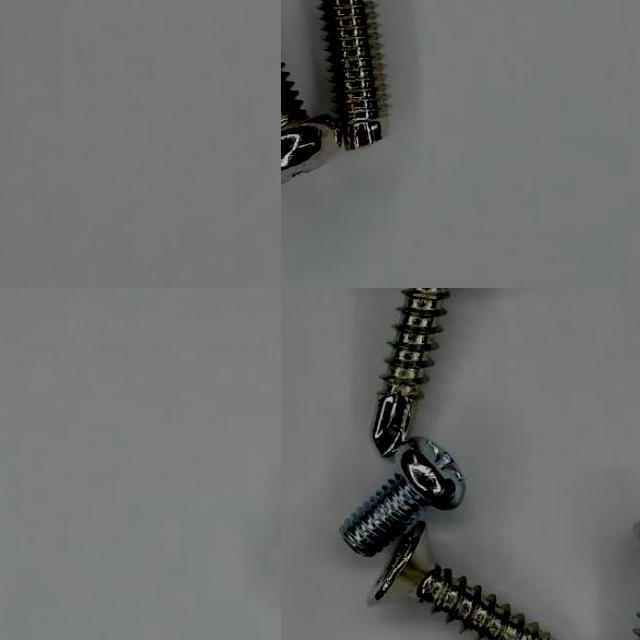Screw: (373, 523, 552, 640), (339, 439, 465, 556), (372, 288, 449, 456), (320, 0, 385, 149)
